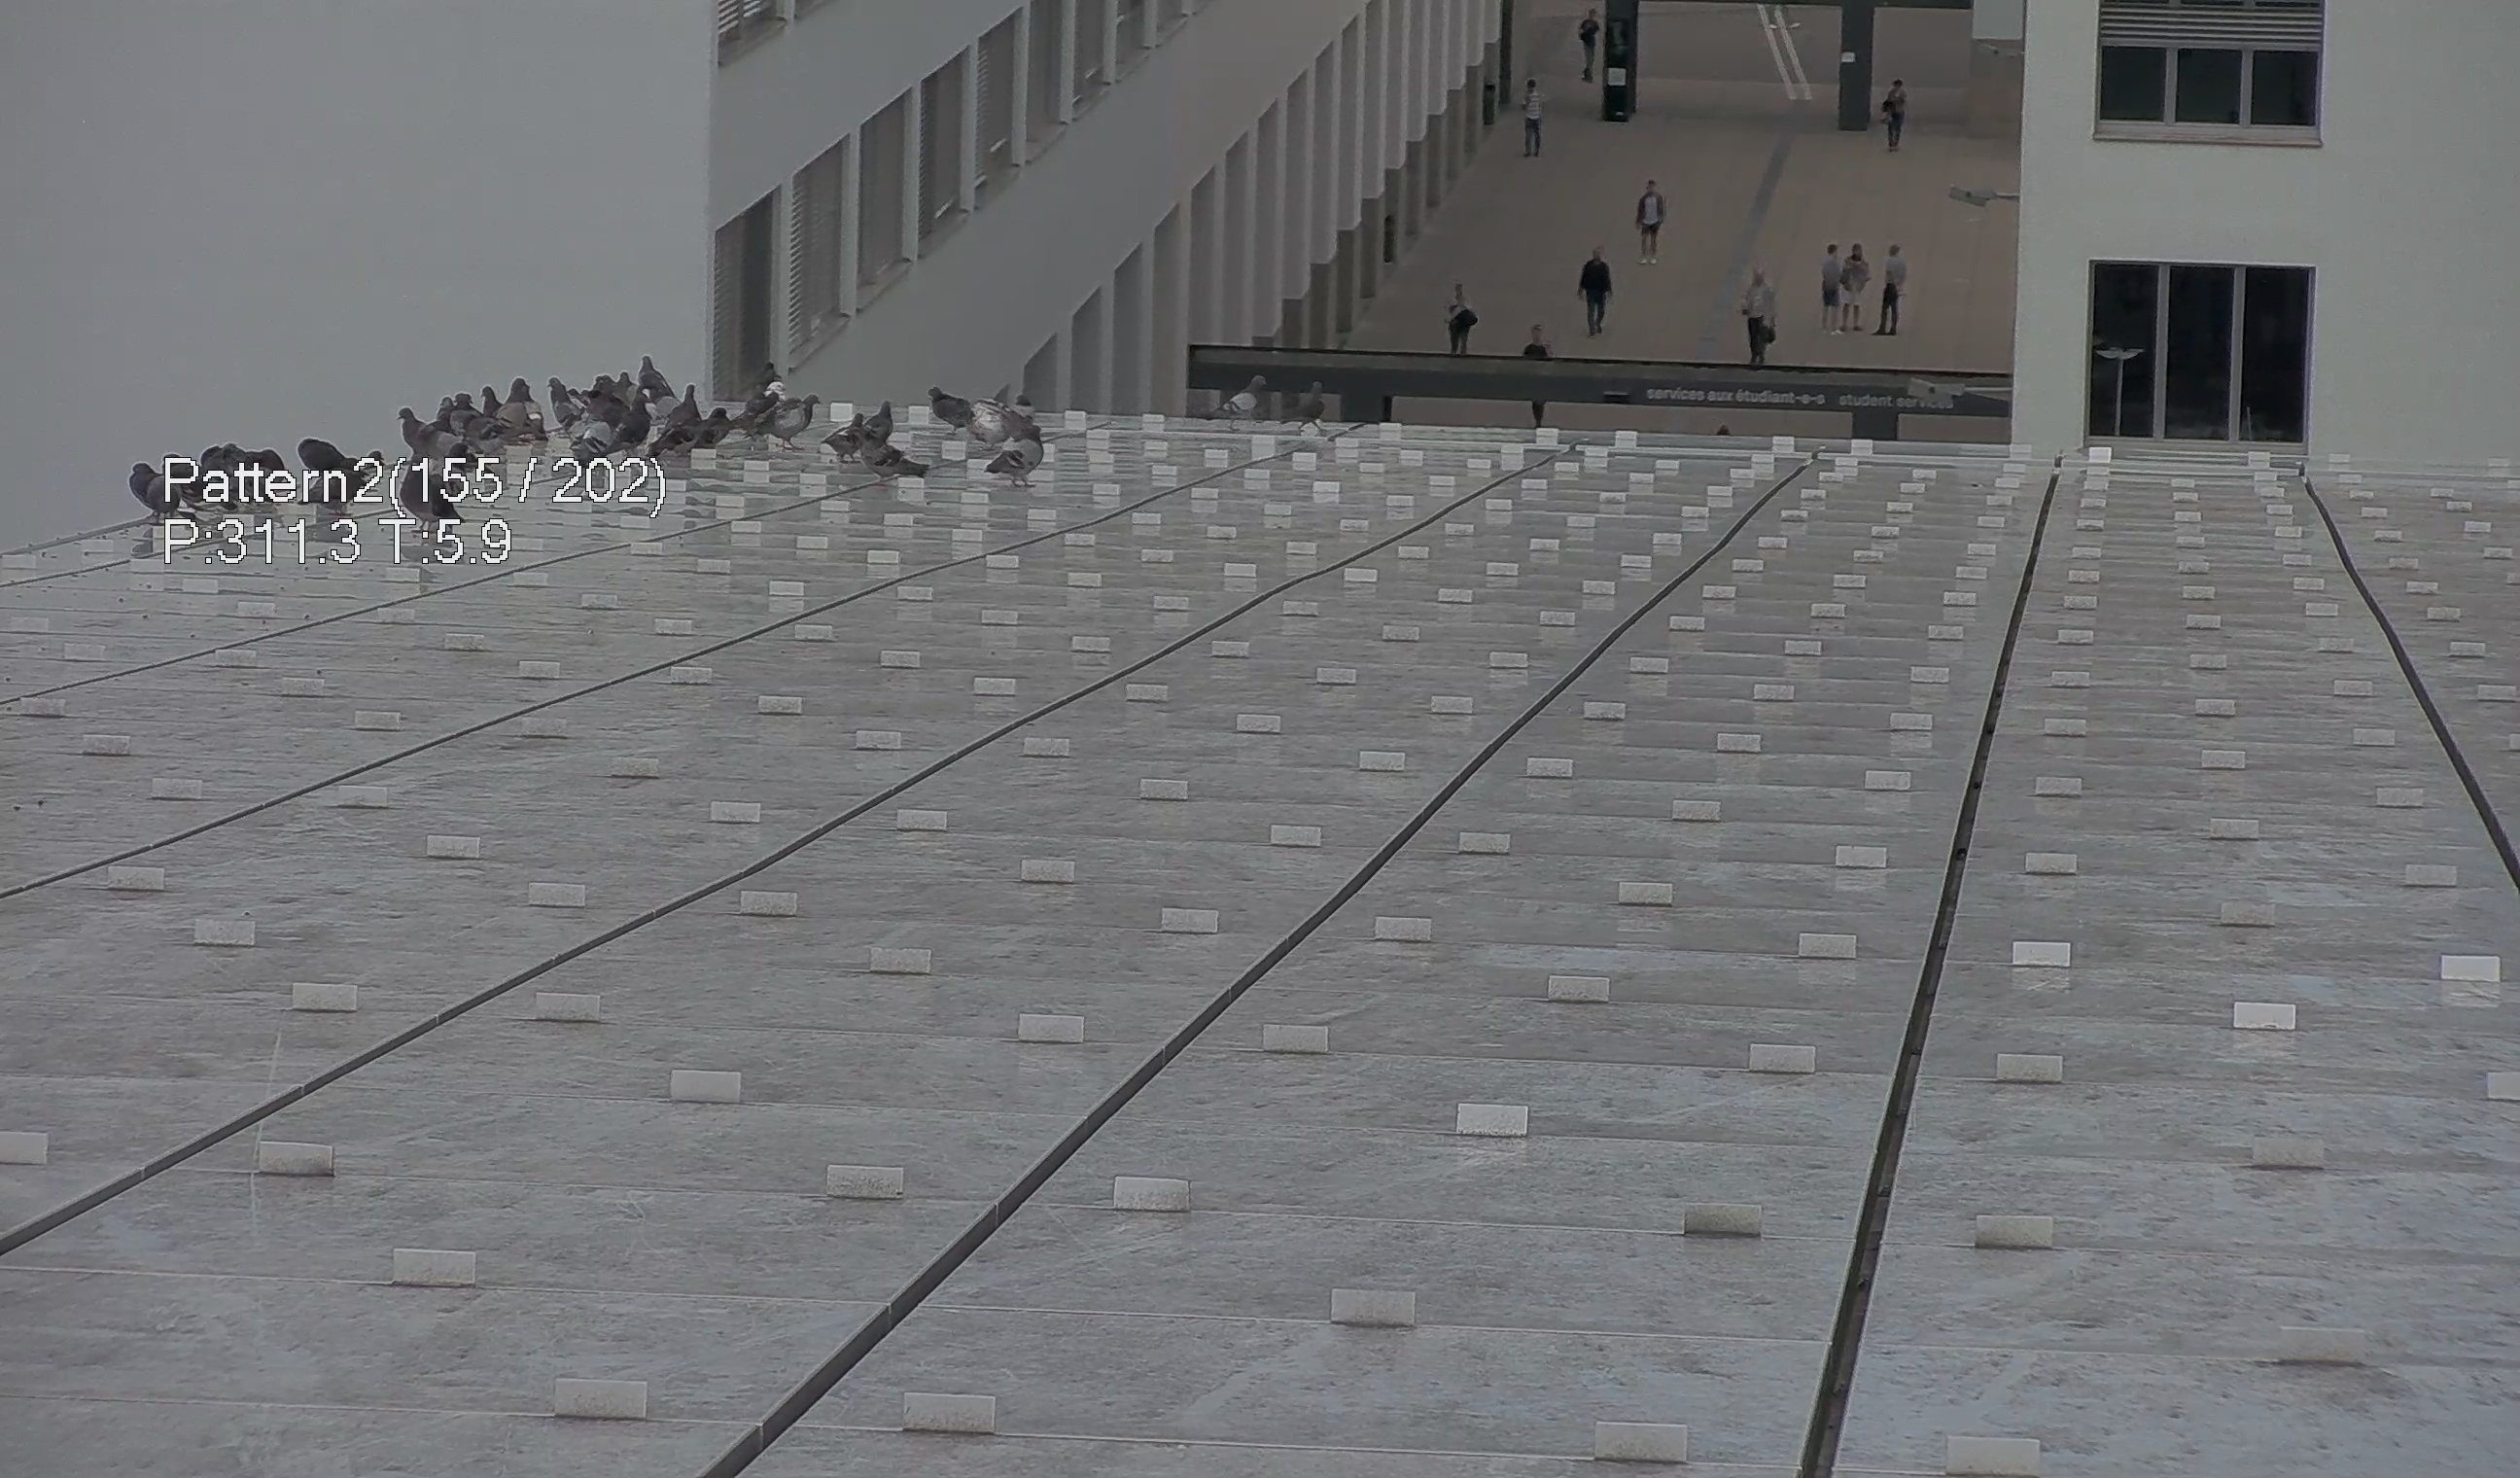Pigeon: (849, 422, 930, 482), (987, 426, 1046, 496), (406, 445, 454, 531), (761, 391, 825, 449), (204, 442, 278, 491), (668, 377, 716, 452), (130, 461, 183, 524), (466, 410, 521, 465), (315, 452, 364, 510), (925, 382, 972, 436), (566, 410, 612, 465), (969, 396, 1023, 440), (603, 401, 645, 457), (730, 391, 779, 436), (827, 412, 865, 465), (863, 394, 899, 445), (695, 403, 730, 454), (292, 433, 338, 470), (396, 403, 427, 454), (545, 377, 577, 426), (638, 354, 672, 396), (758, 359, 788, 401), (508, 375, 536, 403), (607, 371, 635, 396), (477, 385, 499, 413), (434, 391, 452, 417), (366, 445, 383, 470), (455, 391, 475, 410)
